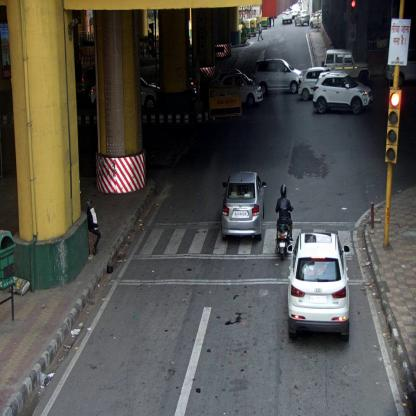car: (286, 231, 354, 345), (221, 171, 265, 242), (312, 73, 374, 115), (253, 59, 303, 94), (323, 48, 372, 81), (216, 76, 263, 106), (298, 67, 329, 99), (295, 12, 311, 27), (308, 10, 322, 27), (282, 7, 292, 25)
motorcycle: (275, 183, 294, 258)
